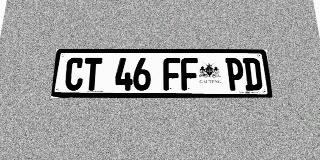4: (115, 58, 133, 90)
6: (133, 58, 151, 90)
C: (64, 58, 85, 90)
D: (243, 58, 263, 90)
F: (163, 58, 181, 90), (181, 58, 199, 90)
P: (225, 58, 245, 90)
T: (83, 58, 102, 90)
